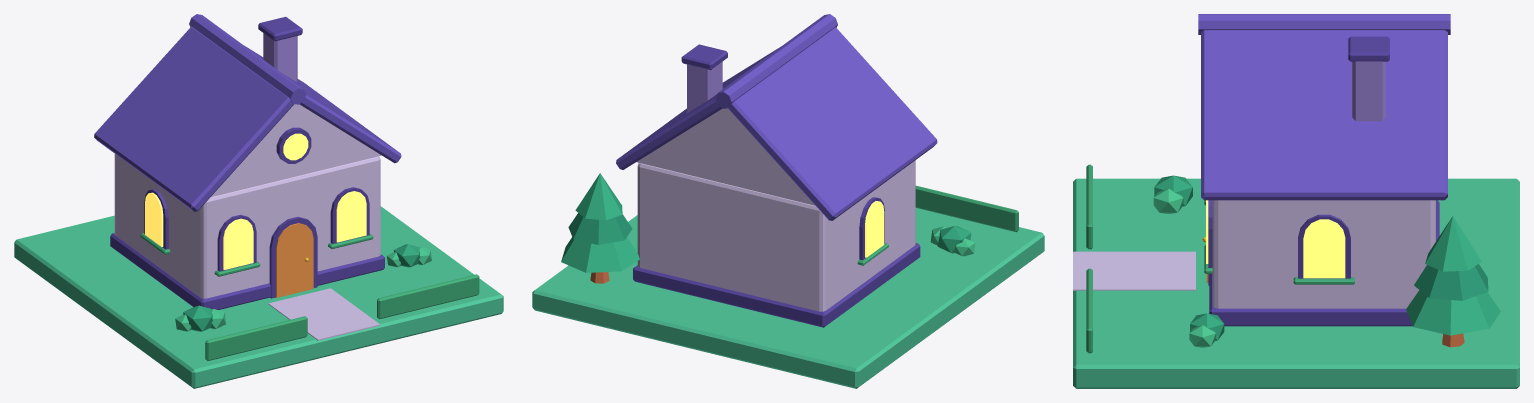
File: bld_house_lilac.glb
The picture shows the model from 3 angles, left to right: view 1: azimuth 30°, elevation 25°; view 2: azimuth 150°, elevation 25°; view 3: azimuth 270°, elevation 25°; orthographic projection. The views are drawn at different scales.
Parts seen in each view (by area): view 1: bld_house_lilac; view 2: bld_house_lilac; view 3: bld_house_lilac.
Boxes of the visible parts, <box> form: bld_house_lilac: <box>14,14,503,388</box>; bld_house_lilac: <box>532,14,1044,388</box>; bld_house_lilac: <box>1073,14,1519,388</box>.
Bounding box in the file's own units: 8 × 5.57 × 8.
